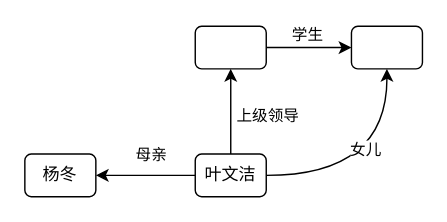
Some shapes in this 447 by 222 pixel diagram are drawn without their labels. The centre of each missing label's shape, as x and y in pixels:
叶哲泰: point 386,47
杨卫宁: point 230,47
